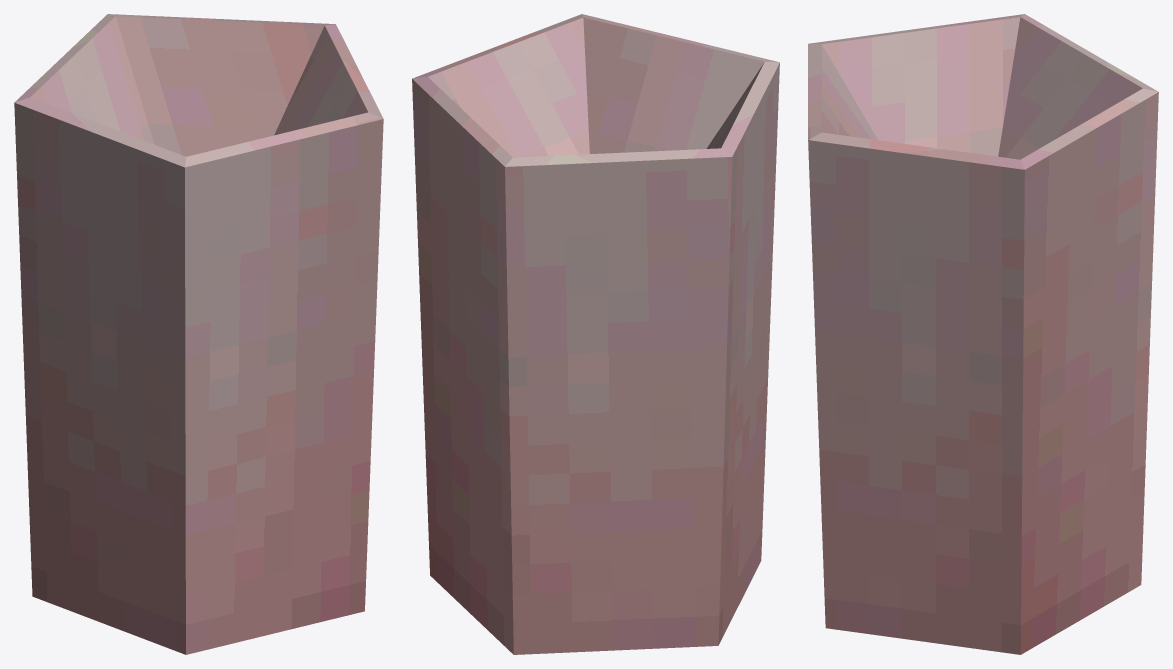
File: glass2.obj
The picture shows the model from 3 angles, left to right: view 1: azimuth 30°, elevation 25°; view 2: azimuth 150°, elevation 25°; view 3: azimuth 270°, elevation 25°; orthographic projection.
Visible parts, largest first — view 1: glass2; view 2: glass2; view 3: glass2.
Part boxes in pixels (x1,y1,x2,y2): glass2: [14, 14, 383, 654]; glass2: [412, 14, 779, 654]; glass2: [808, 14, 1158, 654].
Size of the model in its own units: 0.1116 by 0.1658 by 0.1062.
